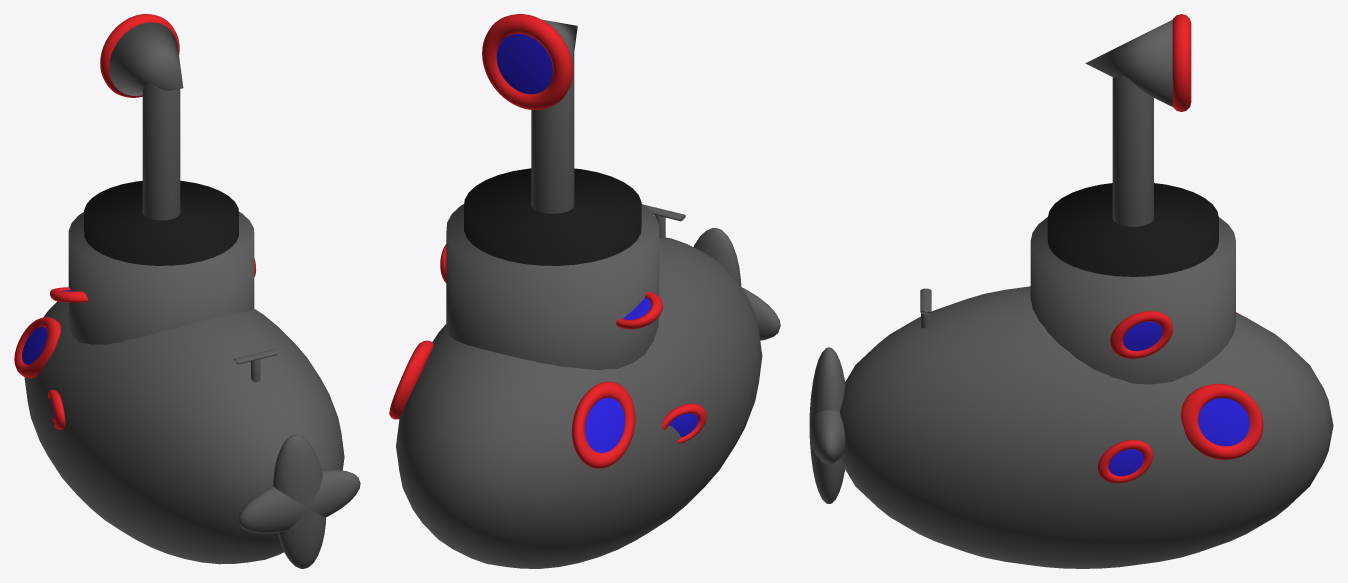
The model's file is modelU.glb.
The picture shows the model from 3 angles, left to right: view 1: azimuth 30°, elevation 25°; view 2: azimuth 150°, elevation 25°; view 3: azimuth 270°, elevation 25°; orthographic projection. The views are drawn at different scales.
Parts seen in each view (by area): view 1: Rumpf, Cylinder.001, Ausguck, Teleskop, Sphere.001, Fernglas, Propeller, Torus.004, Torus.006, Fenster Rechts.001, Torus.002, Torus.005; view 2: Rumpf, Cylinder.001, Ausguck, Teleskop, Torus.006, Torus.004, Fenster Ausguck.001, Fenster Rechts.001, Torus, Sphere.001, Propeller, Torus.005 (+2 smaller); view 3: Rumpf, Cylinder.001, Ausguck, Teleskop, Fernglas, Torus, Sphere.001, Fenster Links, Torus.006, Propeller, Torus.001, Torus.003 (+2 smaller).
Boxes of the visible parts, <box> form: Rumpf: <box>24,301,344,564</box>; Cylinder.001: <box>68,212,254,344</box>; Ausguck: <box>84,180,238,265</box>; Teleskop: <box>142,83,180,220</box>; Sphere.001: <box>273,434,325,568</box>; Fernglas: <box>109,22,183,96</box>; Propeller: <box>238,470,360,533</box>; Torus.004: <box>14,317,60,378</box>; Torus.006: <box>100,14,179,97</box>; Fenster Rechts.001: <box>22,327,47,364</box>; Torus.002: <box>50,287,88,302</box>; Torus.005: <box>47,390,65,429</box>; Rumpf: <box>396,237,762,568</box>; Cylinder.001: <box>446,204,659,370</box>; Ausguck: <box>464,168,641,265</box>; Teleskop: <box>531,53,574,213</box>; Torus.006: <box>482,14,573,109</box>; Torus.004: <box>572,381,635,468</box>; Fenster Ausguck.001: <box>496,34,552,94</box>; Fenster Rechts.001: <box>585,397,624,452</box>; Torus: <box>389,340,433,419</box>; Sphere.001: <box>693,228,741,286</box>; Propeller: <box>742,287,780,340</box>; Torus.005: <box>662,403,706,443</box>; Rumpf: <box>840,286,1333,568</box>; Cylinder.001: <box>1030,217,1235,384</box>; Ausguck: <box>1047,183,1218,276</box>; Teleskop: <box>1112,75,1153,226</box>; Fernglas: <box>1085,20,1172,106</box>; Torus: <box>1180,383,1263,459</box>; Sphere.001: <box>809,347,845,503</box>; Fenster Links: <box>1198,398,1249,446</box>; Torus.006: <box>1172,14,1191,111</box>; Propeller: <box>809,410,845,464</box>; Torus.001: <box>1110,311,1172,358</box>; Torus.003: <box>1098,440,1152,483</box>.
Size of the model in its own units: 5.87 by 11.69 by 10.33.
